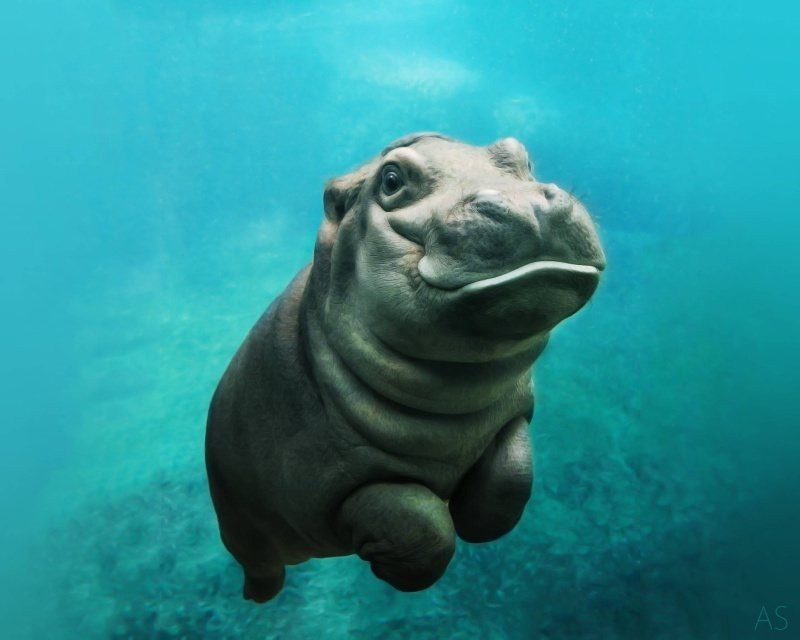hipopotamo: (183, 122, 607, 608)
